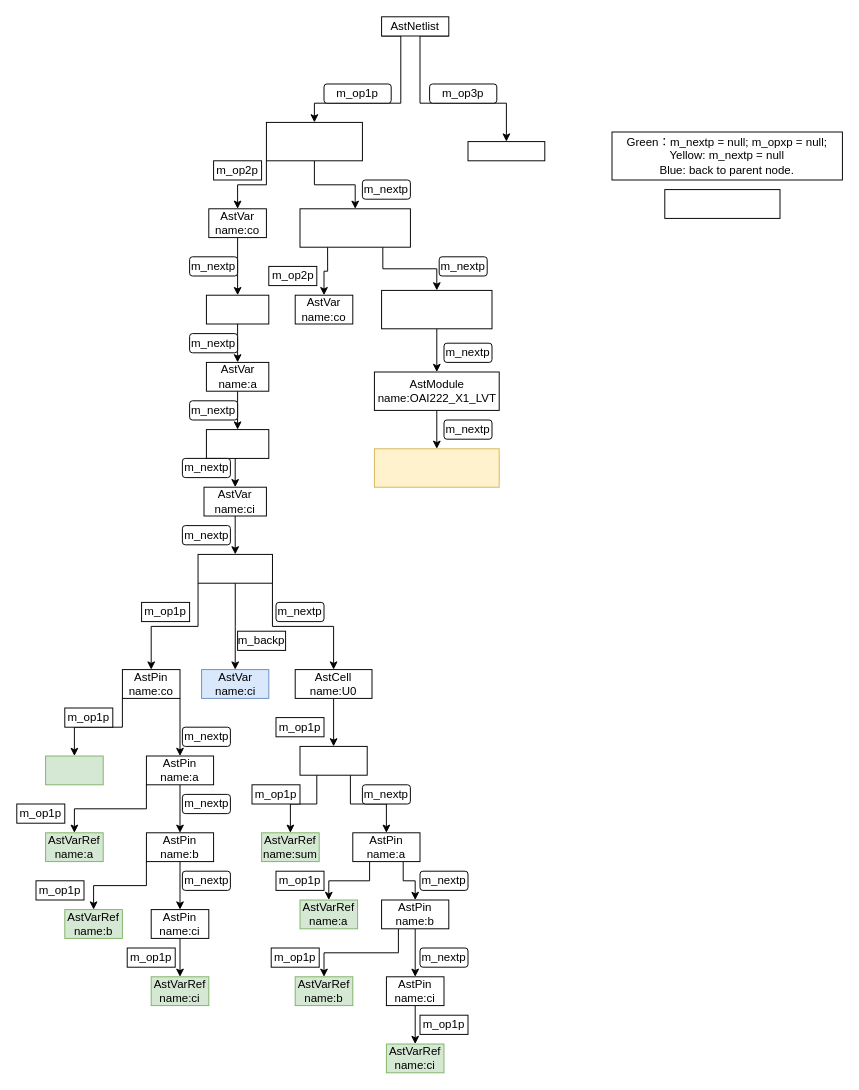
Some shapes in this 859 by 1090 pixel diagram are drawn without their labels. Each missing label, with the centre of its shape:
AstCell name:U1: point 234,568
AstModule name:full_adder: point 313,141
AstModule name:full_adder_co: point 354,227
AstModule name:full_adder_sum: point 436,309
AstModule name:XNOR2_X1_LVT: point 436,467
AstPin name:sum: point 333,760
AstTypeTable: point 506,151
AstVar name:b: point 237,443
AstVar name:sum: point 237,309
AstVarRef name:co: point 74,770
Depth first search: point 722,203
